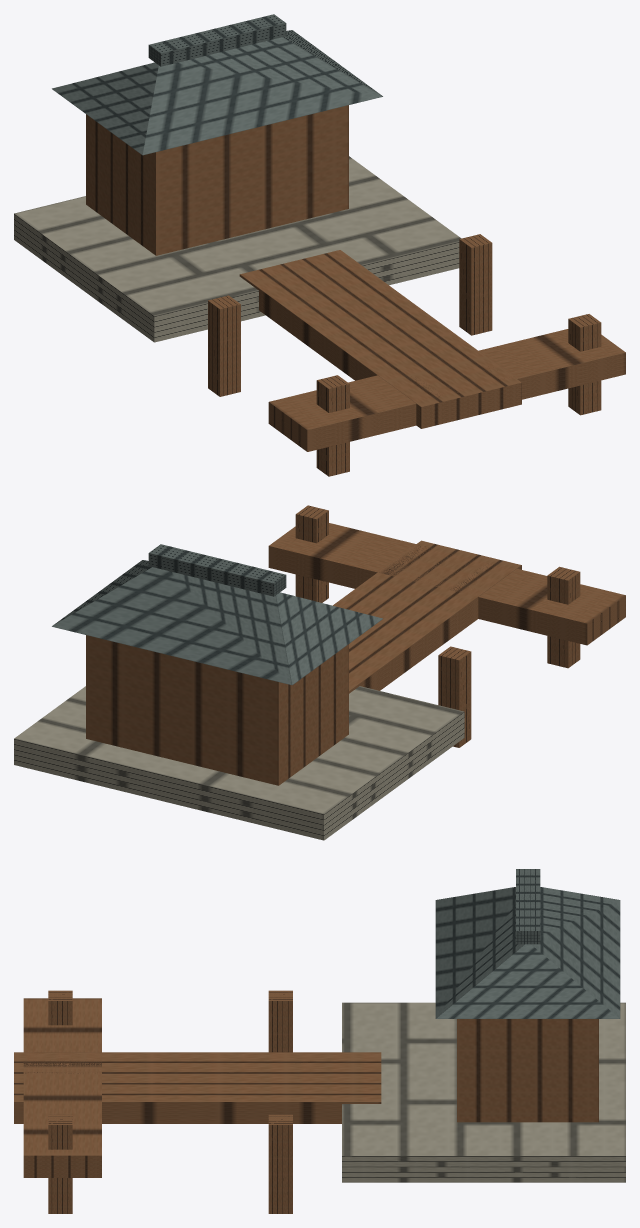
Rendered from port-lod1.glb.
3 views of the same model, one above another, from view 1: azimuth 30°, elevation 25°; view 2: azimuth 150°, elevation 25°; view 3: azimuth 270°, elevation 25° (orthographic).
Bounding box in the file's own units: 0.76 × 0.544 × 1.25.
Materials: 1 (1 with a texture image).
